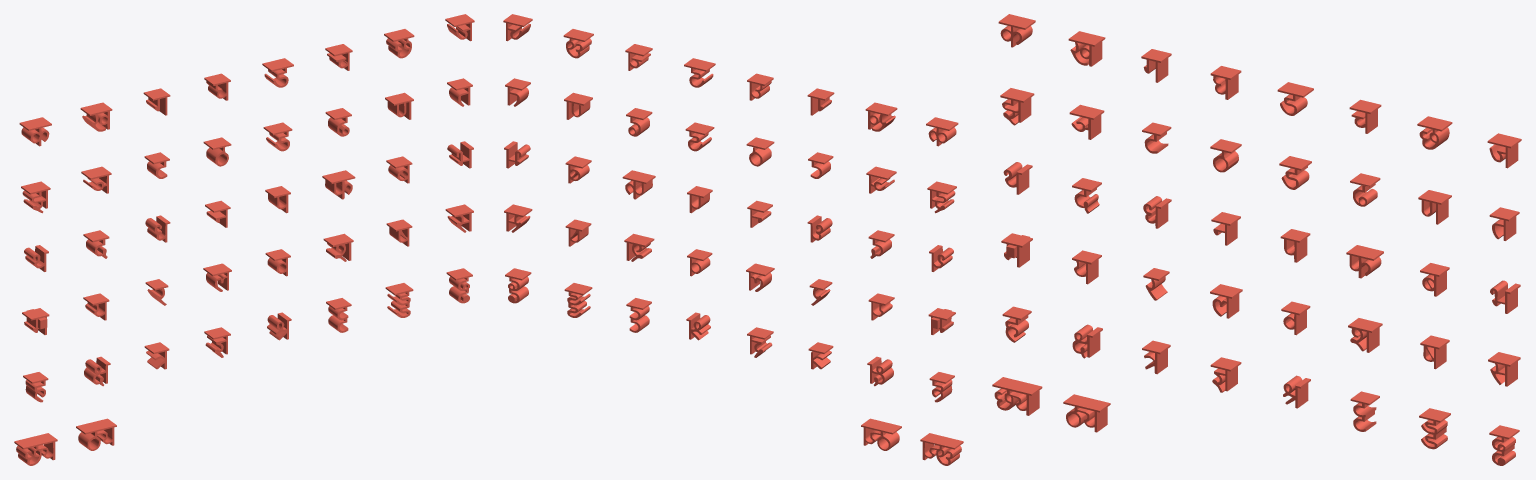
Rendered from sanskrit_alphabets.glb.
3 views of the same model, side by side, from view 1: azimuth 30°, elevation 25°; view 2: azimuth 150°, elevation 25°; view 3: azimuth 330°, elevation 25° (orthographic). The views are drawn at different scales.
Parts seen in each view (by area): view 1: consonants; view 2: consonants; view 3: consonants.
Part boxes in pixels (left/top/right/bottom): consonants: left=14, top=14, right=474, bottom=465; consonants: left=503, top=14, right=963, bottom=465; consonants: left=992, top=14, right=1521, bottom=465.
Bounding box in the file's own units: 14.27 × 10.18 × 0.7587.
